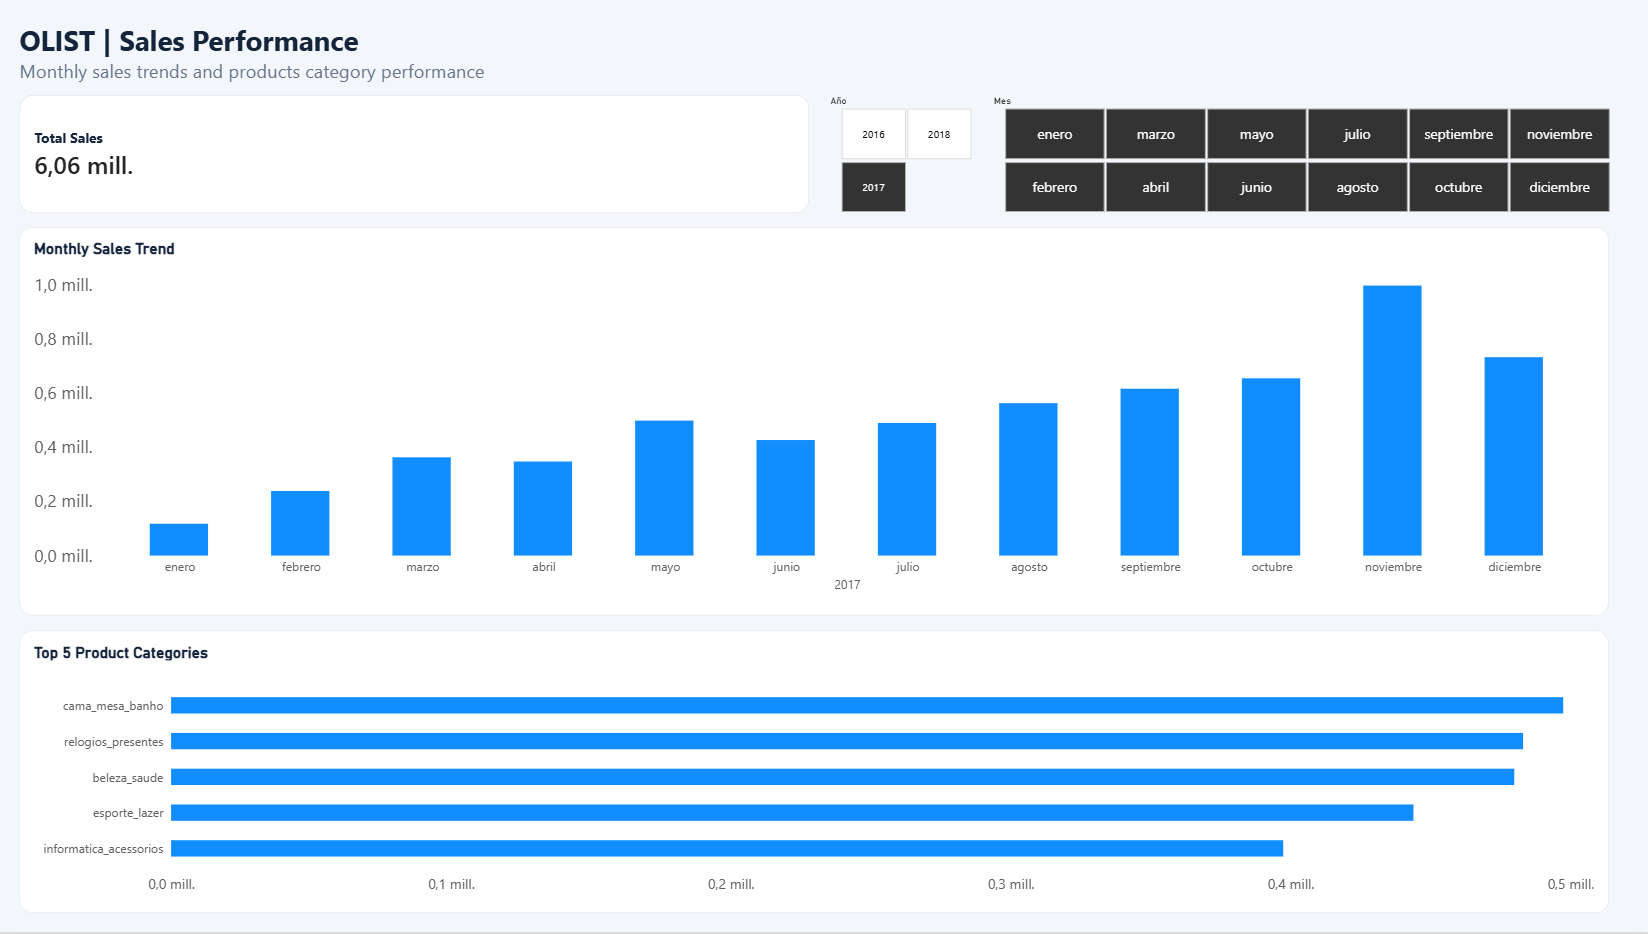

What the dashboard file says about the page in this screenshot:
{"tool":"powerbi","page":{"name":"Página 1","canvas":[1920,1080],"ordinal":0},"visuals":[{"type":"slicer","fields":{"Values":["public vw_monthly_sales_by_category.sales_month.Variation.Jerarquía de fechas.Año"]},"box":[960.3,111.1,190.2,137.5],"z":0},{"type":"clusteredColumnChart","title":"Monthly Sales Trend","fields":{"Category":["public vw_monthly_sales_by_category.sales_month.Variation.Jerarquía de fechas.Año","public vw_monthly_sales_by_category.sales_month.Variation.Jerarquía de fechas.Mes"],"Y":["public vw_monthly_sales_by_category.Total Sales"]},"box":[30.1,263.6,1841.6,450],"z":1000},{"type":"clusteredBarChart","title":"Top 5 Product Categories","fields":{"Category":["public vw_monthly_sales_by_category.category"],"Y":["public vw_monthly_sales_by_category.Total Sales"]},"box":[30.1,732.5,1841.6,327.6],"z":2000},{"type":"textbox","box":[30.1,26.6,607.7,85],"z":3000},{"type":"cardVisual","fields":{"Data":["public vw_monthly_sales_by_category.Total Sales"]},"box":[30.1,111.1,915.1,137.5],"z":4000},{"type":"slicer","fields":{"Values":["public vw_monthly_sales_by_category.sales_month.Variation.Jerarquía de fechas.Mes"]},"box":[1150.5,111.1,740,137.5],"z":5000}]}

Visuals, with their boxes in screenshot pixels (x1, y1, x2, y2), scaled from the page's 1920x1080 canvas onto the 1648x934 screenshot:
slicer - public vw_monthly_sales_by_category.sales_month.Variation.Jerarquía de fechas.Año: [824, 96, 988, 215]
"Monthly Sales Trend" clusteredColumnChart: [26, 228, 1607, 617]
"Top 5 Product Categories" clusteredBarChart: [26, 633, 1607, 917]
textbox: [26, 23, 547, 97]
cardVisual - public vw_monthly_sales_by_category.Total Sales: [26, 96, 811, 215]
slicer - public vw_monthly_sales_by_category.sales_month.Variation.Jerarquía de fechas.Mes: [988, 96, 1623, 215]
